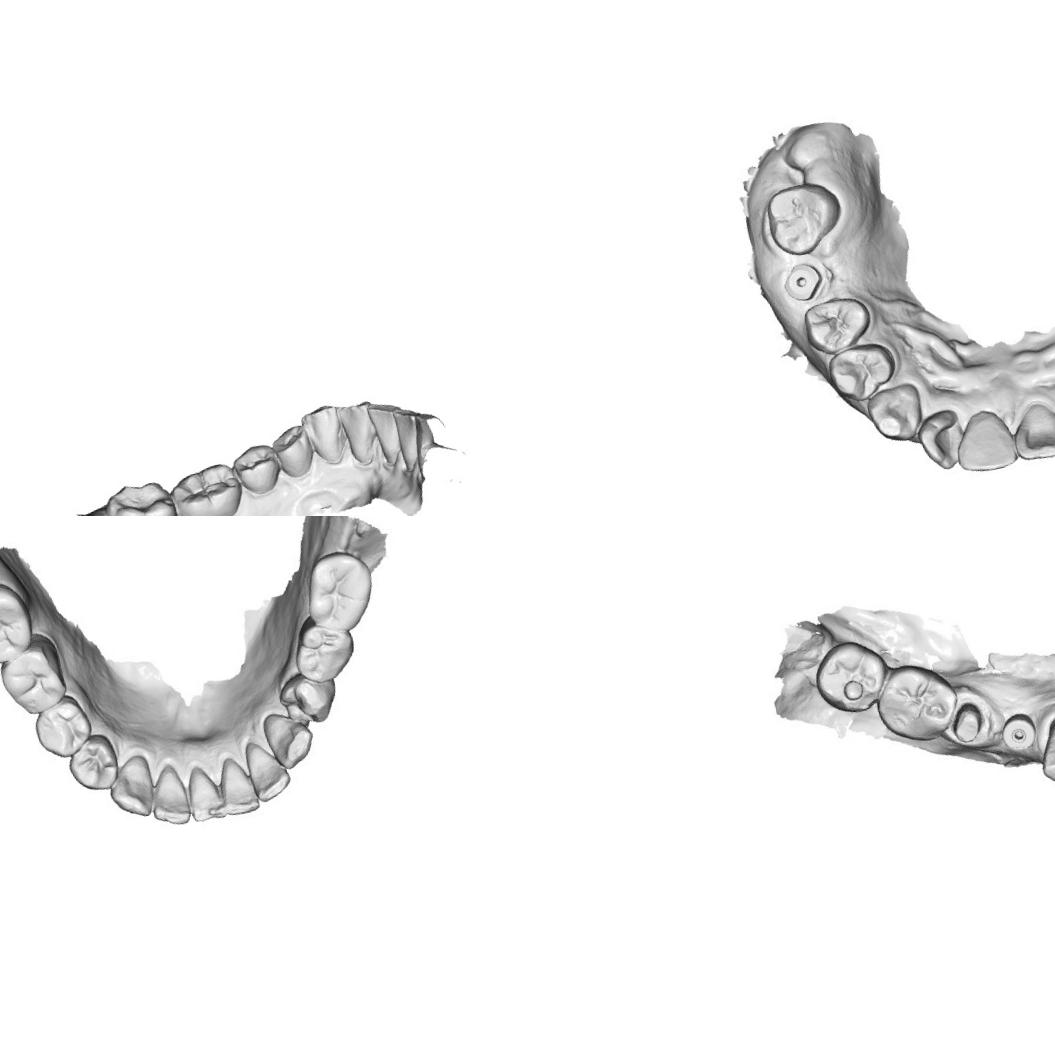canine: (101, 749, 163, 826), (863, 376, 928, 448), (296, 400, 354, 470), (259, 706, 318, 773), (1032, 712, 1055, 798)
crown: (948, 698, 986, 747)
implant: (778, 256, 825, 306), (1000, 712, 1038, 757)
incisor: (949, 412, 1022, 482), (142, 757, 195, 831), (333, 397, 384, 470), (913, 406, 965, 476), (1003, 400, 1055, 469), (365, 396, 412, 470), (389, 402, 432, 475), (242, 740, 290, 803), (214, 756, 260, 820), (183, 764, 224, 825)
molar: (758, 174, 849, 262), (299, 546, 386, 637), (874, 666, 959, 742), (0, 640, 68, 717), (288, 614, 359, 686), (815, 643, 887, 713), (165, 457, 249, 516), (0, 575, 40, 669), (98, 473, 183, 516)
premolar: (822, 337, 902, 407), (798, 291, 878, 359), (270, 664, 340, 730), (30, 696, 92, 758), (230, 439, 286, 500), (268, 422, 317, 482), (68, 735, 118, 792)
